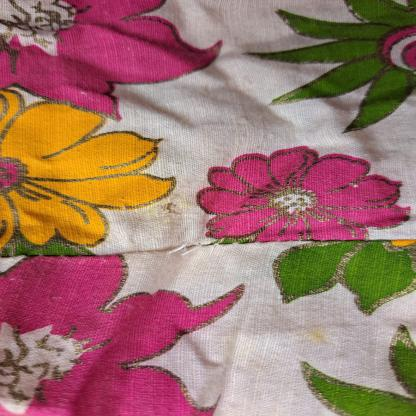spot: (303, 327, 330, 345)
